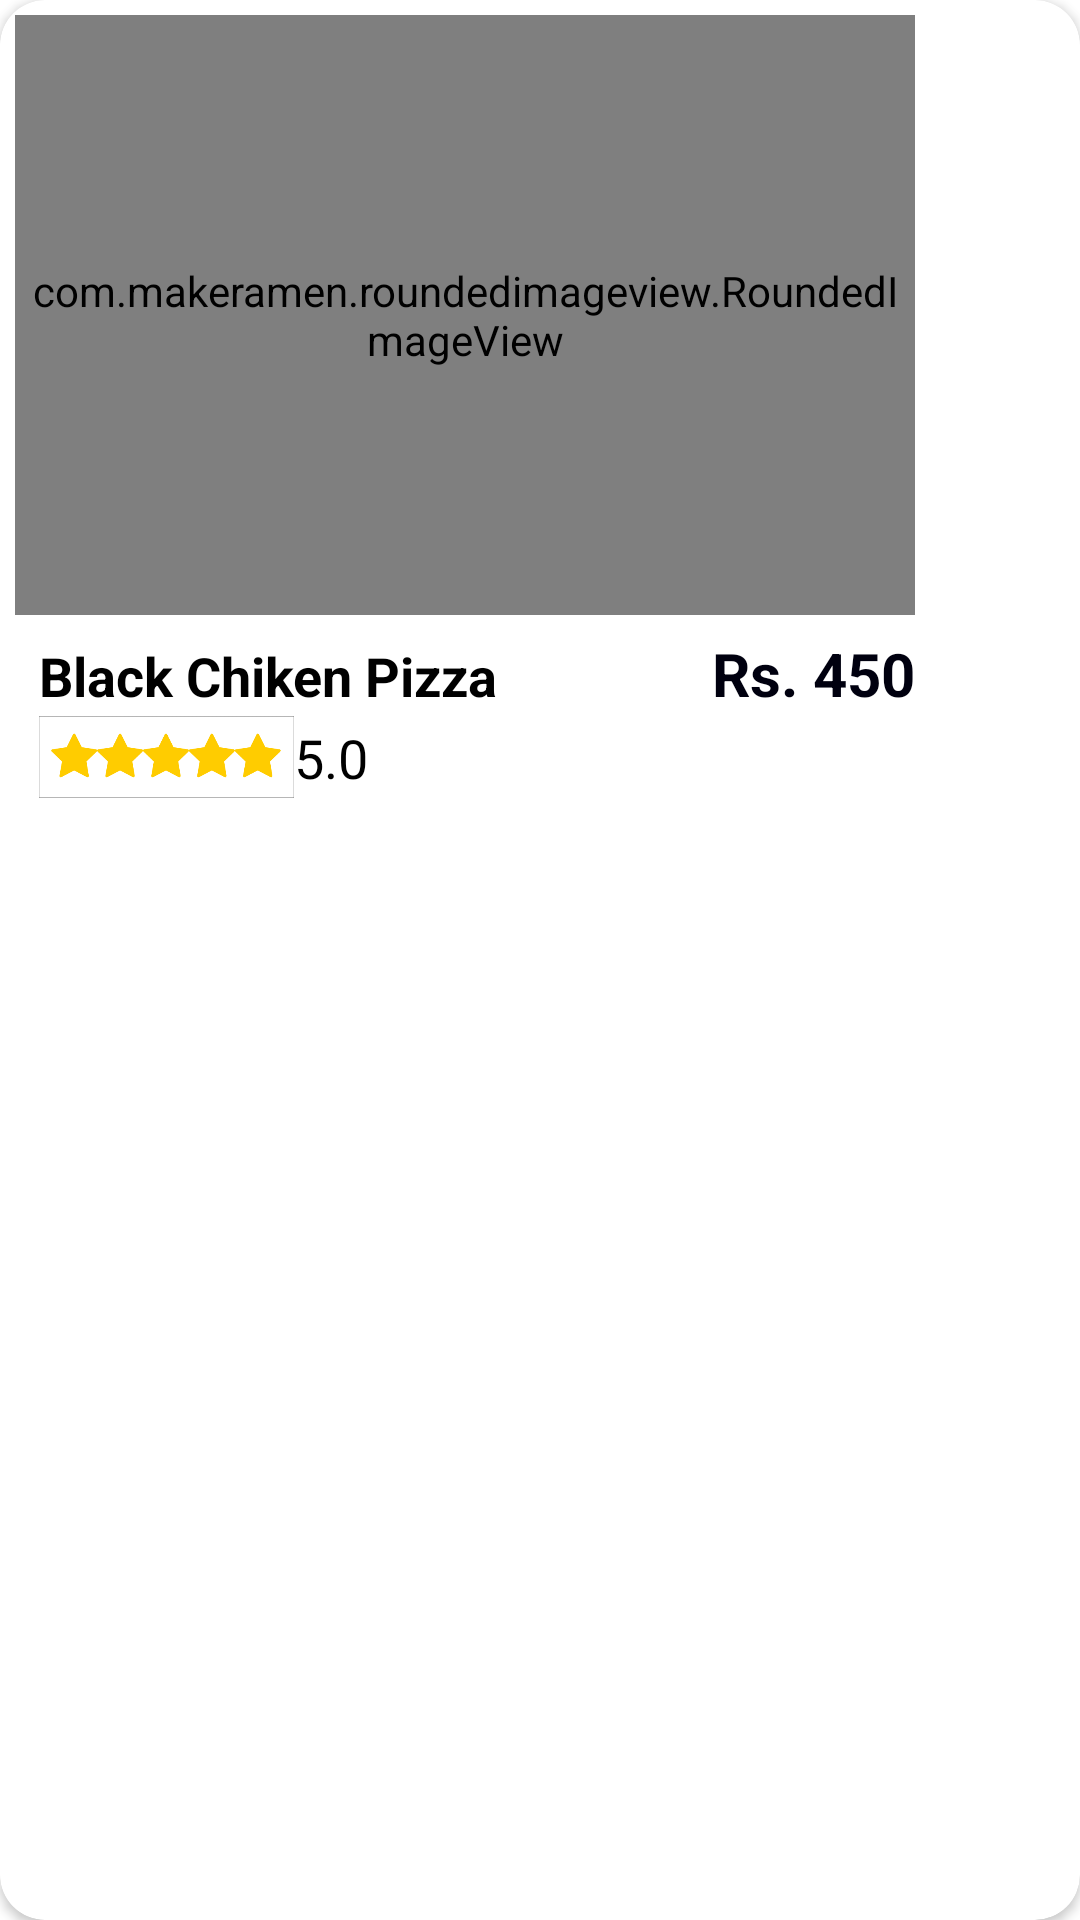

Icon click points for this 1080 x 1920 phone screenshot, format (x,y):
rating bar: (166,757)
